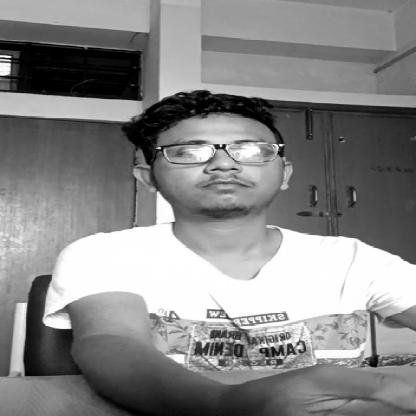Normal: (121, 102, 300, 212)
